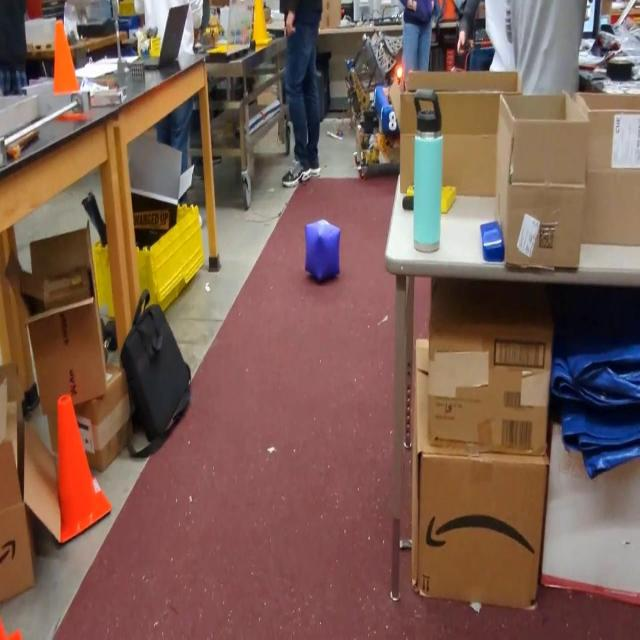frc_cone: (249, 0, 273, 46)
frc_cube: (304, 218, 340, 284)
